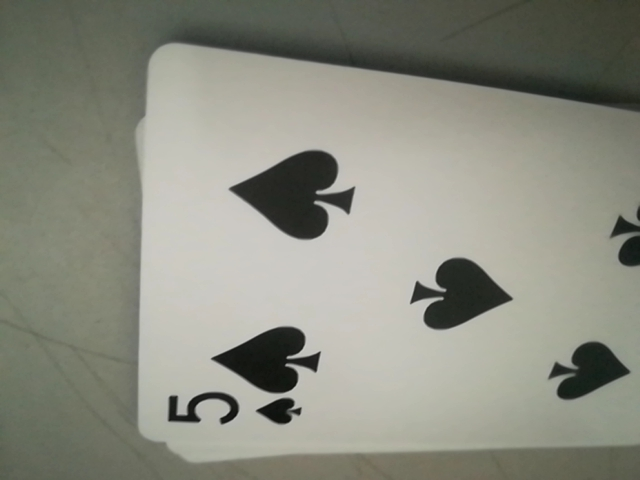ht 5: (161, 385, 314, 447)
